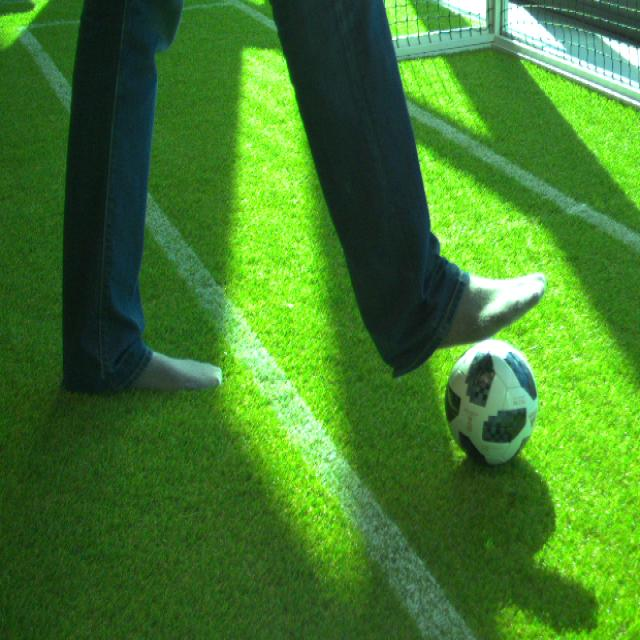ball: (445, 339, 538, 464)
